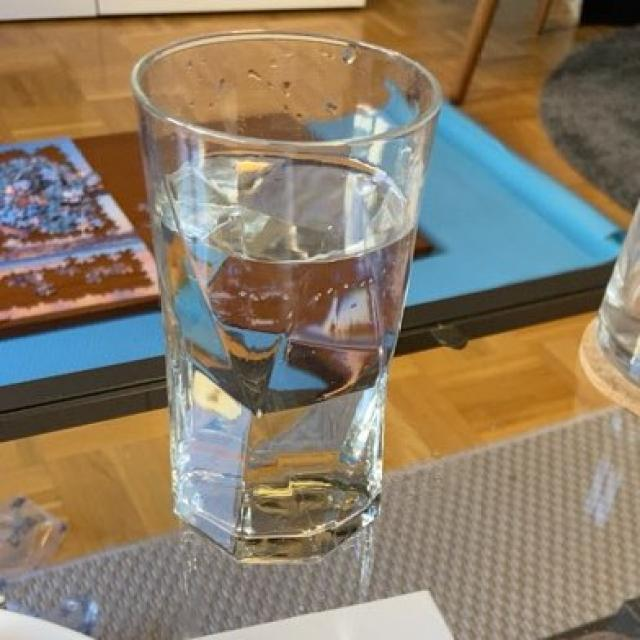water: (158, 148, 411, 539)
